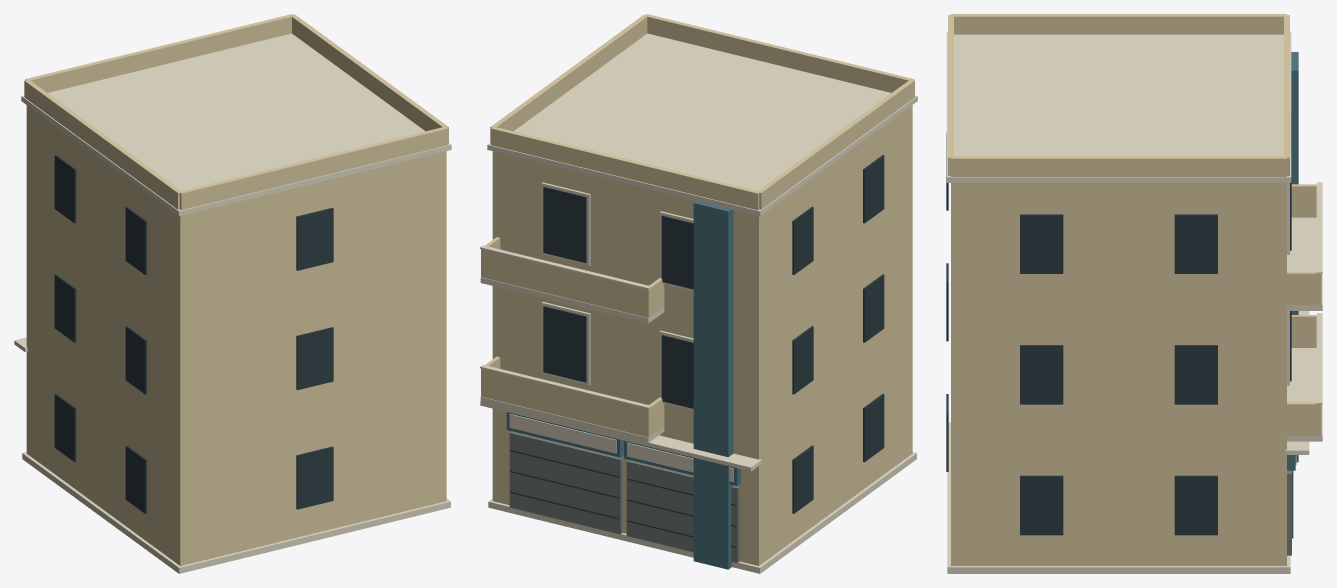
Rendered from KOL_T3_MIX_03.fbx.
3 renders of one model, left to right at view 1: azimuth 30°, elevation 25°; view 2: azimuth 150°, elevation 25°; view 3: azimuth 270°, elevation 25°, orthographic. The views are drawn at different scales.
Parts seen in each view (by area): view 1: KOL_T3_MIX_03__Body, KOL_T3_MIX_03__Trim, KOL_T3_MIX_03__Dark; view 2: KOL_T3_MIX_03__Body, KOL_T3_MIX_03__Trim, KOL_T3_MIX_03__Dark, KOL_T3_MIX_03__Accent, KOL_T3_MIX_03__Roof; view 3: KOL_T3_MIX_03__Body, KOL_T3_MIX_03__Trim, KOL_T3_MIX_03__Dark, KOL_T3_MIX_03__Accent.
Part boxes in pixels (left/top/right/bottom): KOL_T3_MIX_03__Body: left=24, top=14, right=448, bottom=565; KOL_T3_MIX_03__Trim: left=14, top=33, right=451, bottom=573; KOL_T3_MIX_03__Dark: left=54, top=155, right=333, bottom=513; KOL_T3_MIX_03__Body: left=481, top=14, right=914, bottom=565; KOL_T3_MIX_03__Trim: left=480, top=33, right=917, bottom=573; KOL_T3_MIX_03__Dark: left=510, top=155, right=884, bottom=547; KOL_T3_MIX_03__Accent: left=506, top=201, right=740, bottom=569; KOL_T3_MIX_03__Roof: left=509, top=431, right=739, bottom=562; KOL_T3_MIX_03__Body: left=948, top=14, right=1321, bottom=565; KOL_T3_MIX_03__Trim: left=946, top=31, right=1322, bottom=573; KOL_T3_MIX_03__Dark: left=946, top=97, right=1293, bottom=538; KOL_T3_MIX_03__Accent: left=1287, top=52, right=1298, bottom=470.
Size of the model in its own units: 28.74 by 38.15 by 31.32.
